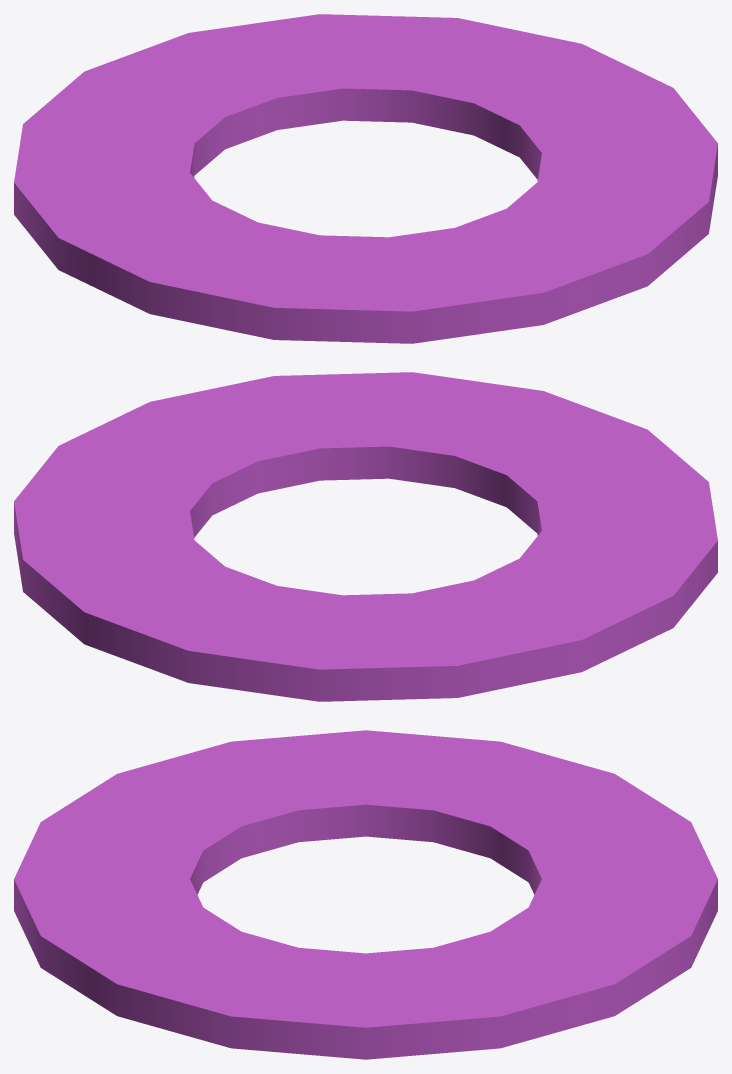
File: IMU_49.gltf
The picture shows the model from 3 angles, top to bottom: view 1: azimuth 30°, elevation 25°; view 2: azimuth 150°, elevation 25°; view 3: azimuth 270°, elevation 25°; orthographic projection.
Parts seen in each view (by area): view 1: mesh7974, mesh7973, mesh7975; view 2: mesh7974, mesh7973, mesh7975; view 3: mesh7974, mesh7973, mesh7975.
Boxes of the visible parts, <box> form: mesh7974: <box>14,14,717,311</box>; mesh7973: <box>14,144,717,343</box>; mesh7975: <box>190,88,541,179</box>; mesh7974: <box>14,372,717,669</box>; mesh7973: <box>14,502,717,701</box>; mesh7975: <box>190,446,541,537</box>; mesh7974: <box>14,730,717,1027</box>; mesh7973: <box>14,879,717,1059</box>; mesh7975: <box>190,804,541,894</box>.
Bounding box in the file's own units: 0.002 × 0.0001 × 0.002.
